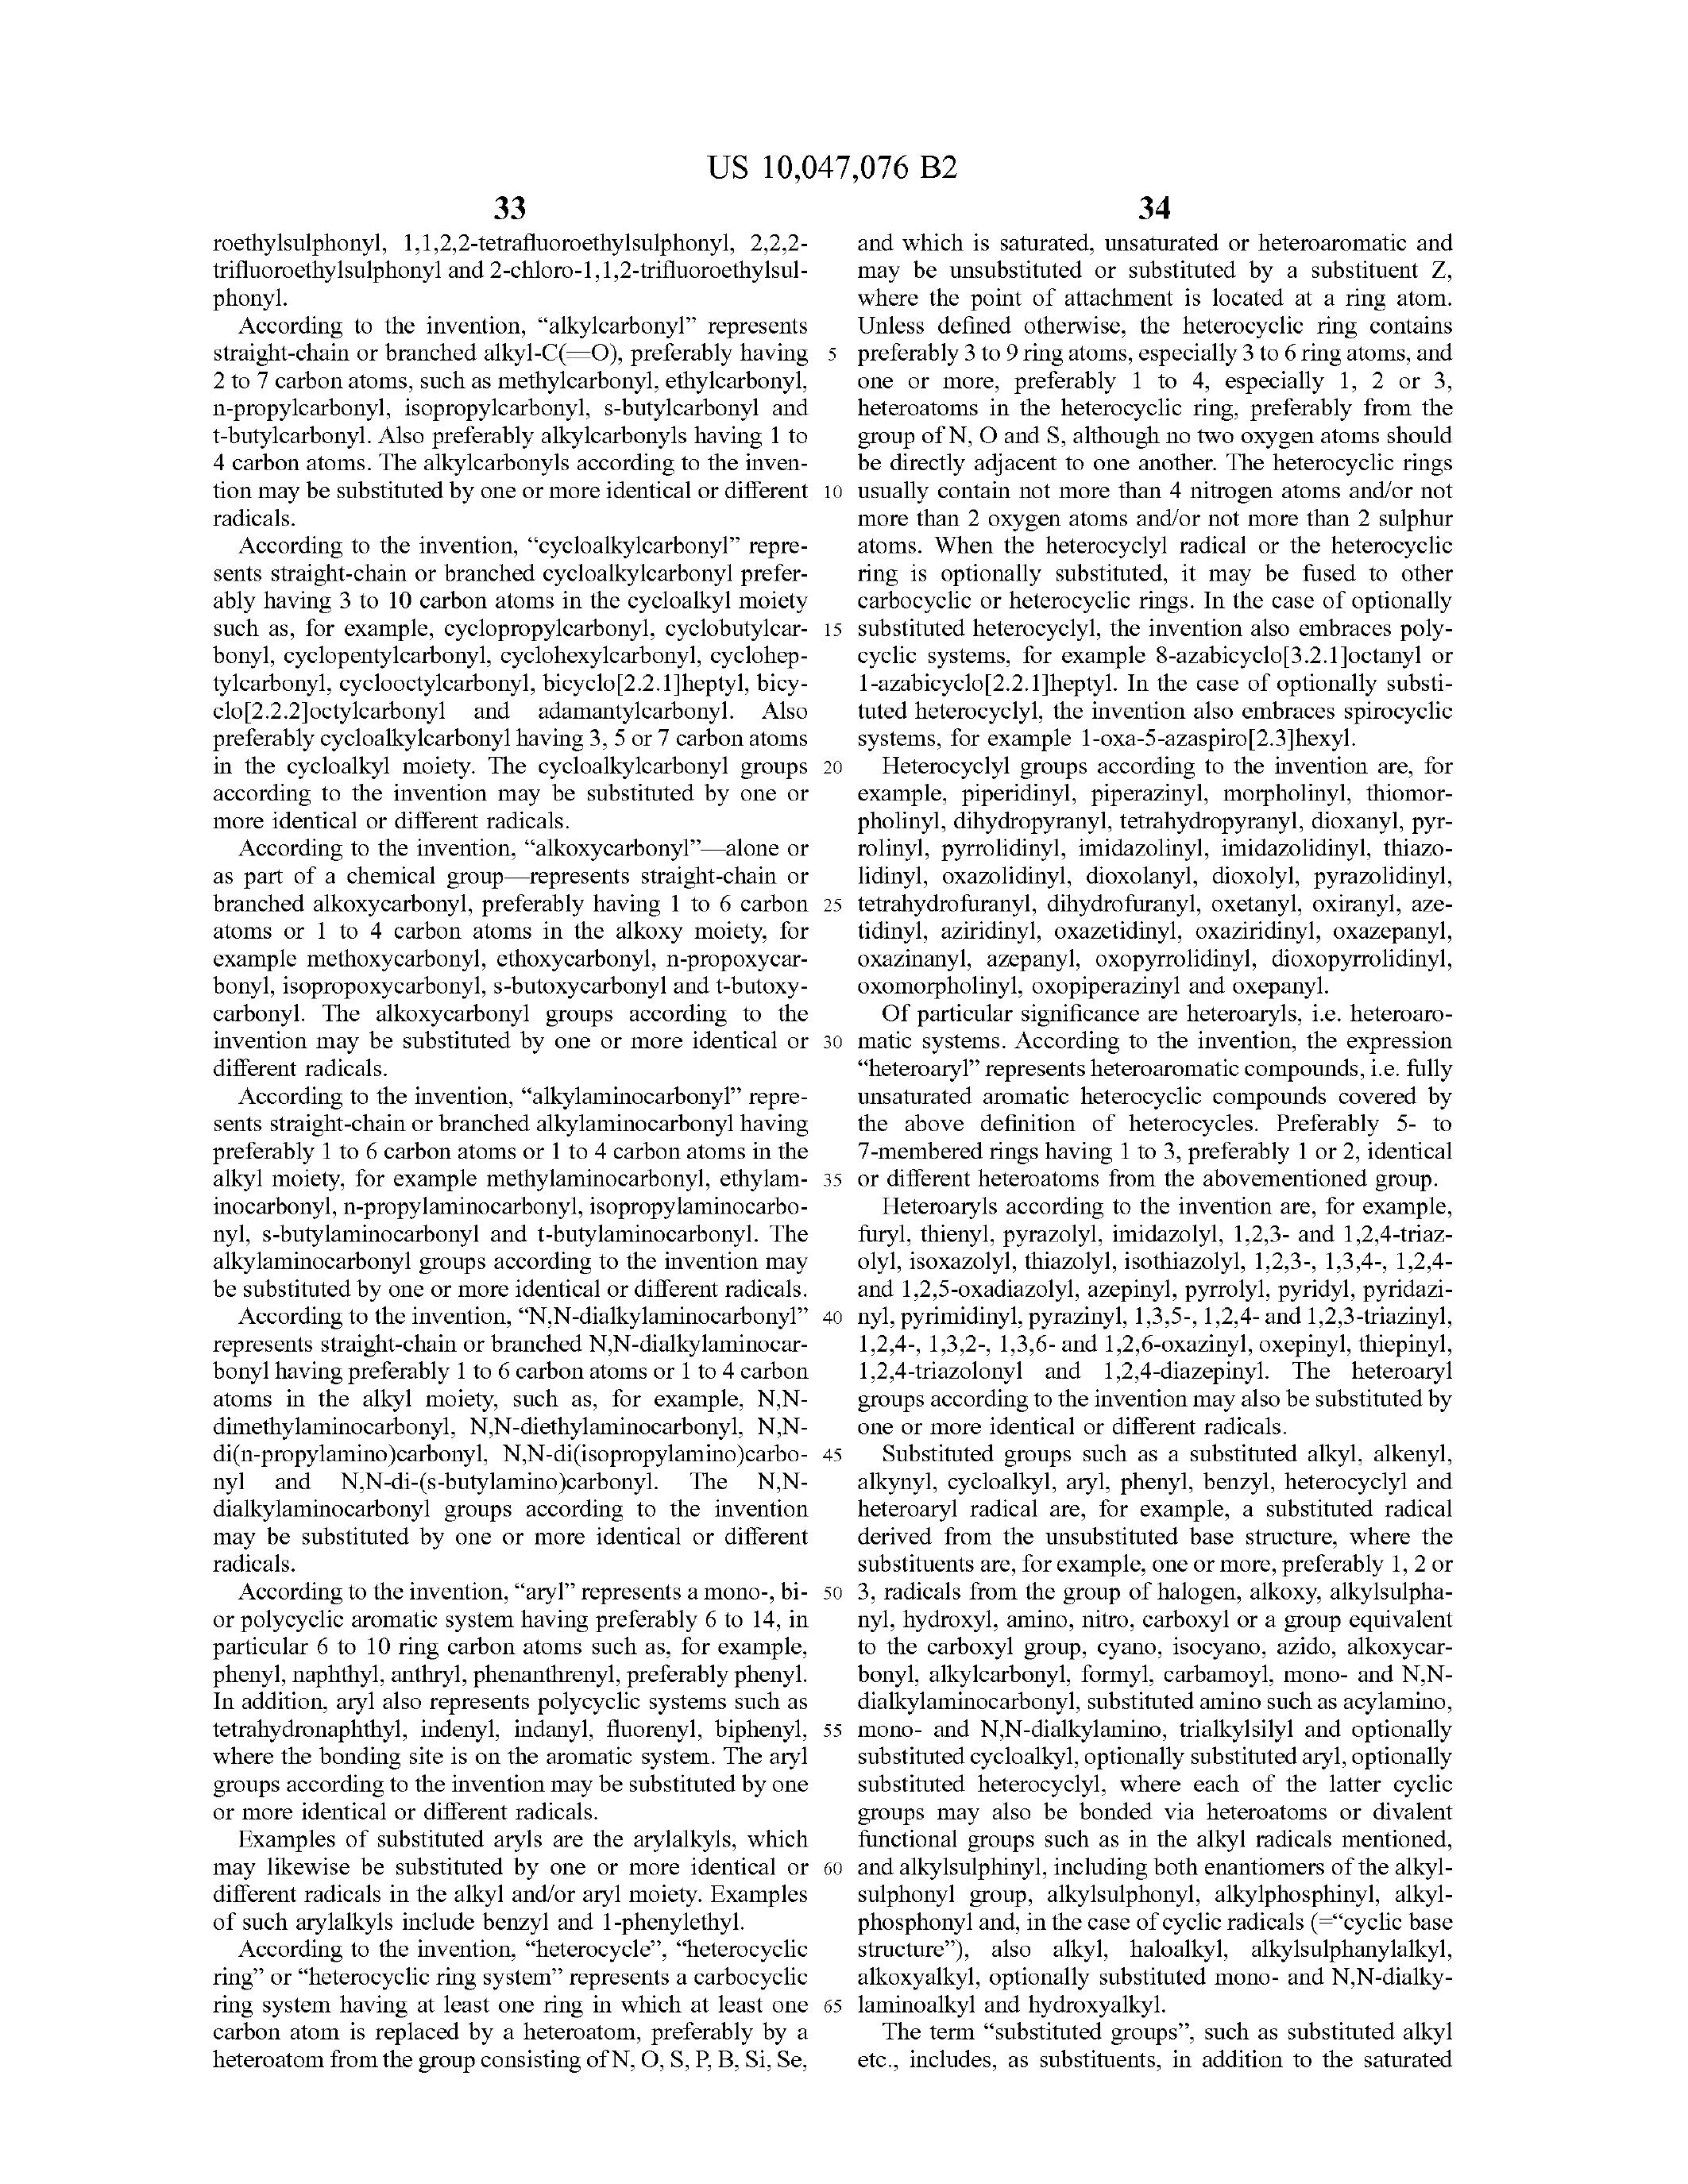substitutes: (853, 1441, 1466, 2007), (874, 1448, 1452, 2014)
